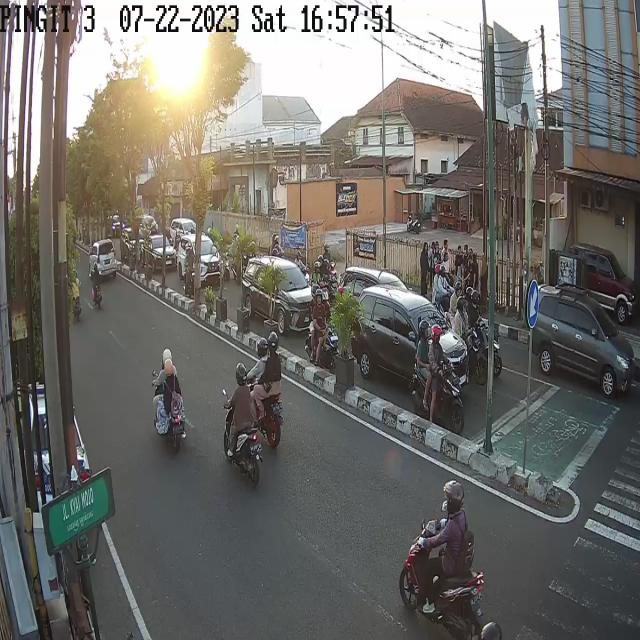car: (350, 284, 468, 400), (528, 282, 634, 396), (240, 255, 316, 334), (171, 235, 225, 290), (140, 232, 178, 270), (88, 236, 118, 278)
motorcycle: (399, 477, 485, 637), (412, 319, 462, 433), (222, 358, 262, 492), (246, 332, 282, 446), (150, 345, 187, 450), (449, 295, 487, 388), (465, 289, 503, 377), (306, 284, 339, 376), (184, 236, 199, 297), (70, 272, 81, 321), (91, 260, 102, 308)
